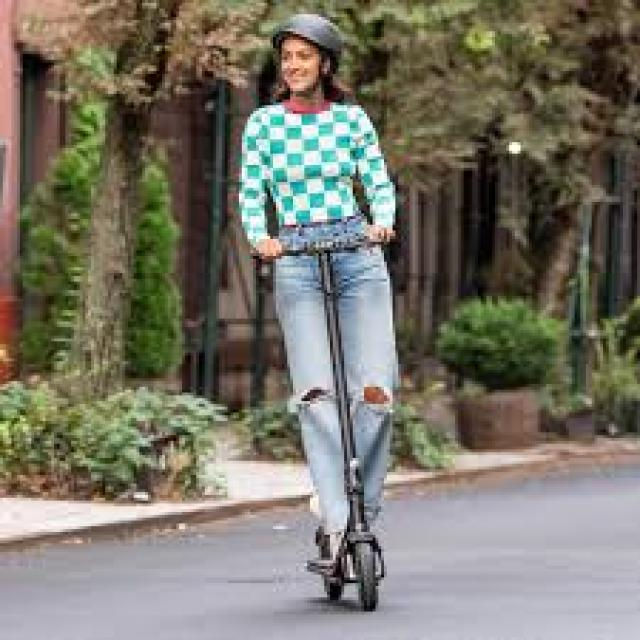helmet: (220, 6, 426, 624)
